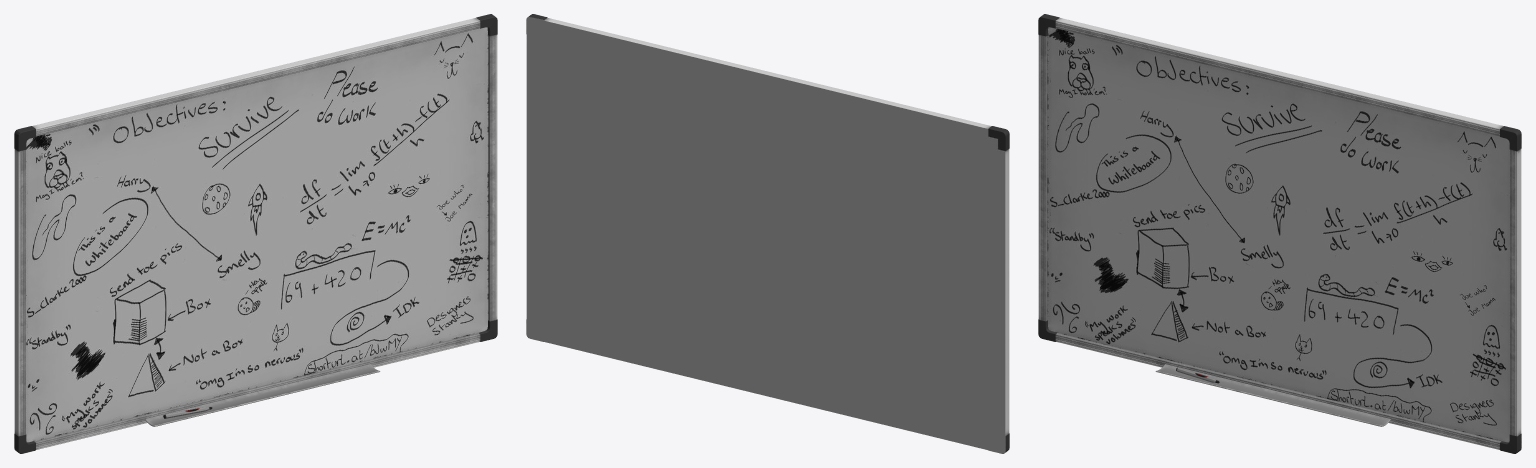
The model's file is lavagna.glb.
3 renders of one model, left to right at view 1: azimuth 30°, elevation 25°; view 2: azimuth 150°, elevation 25°; view 3: azimuth 330°, elevation 25°, orthographic.
Size of the model in its own units: 165 by 106 by 7.98.
Materials: 1 (1 with a texture image).
